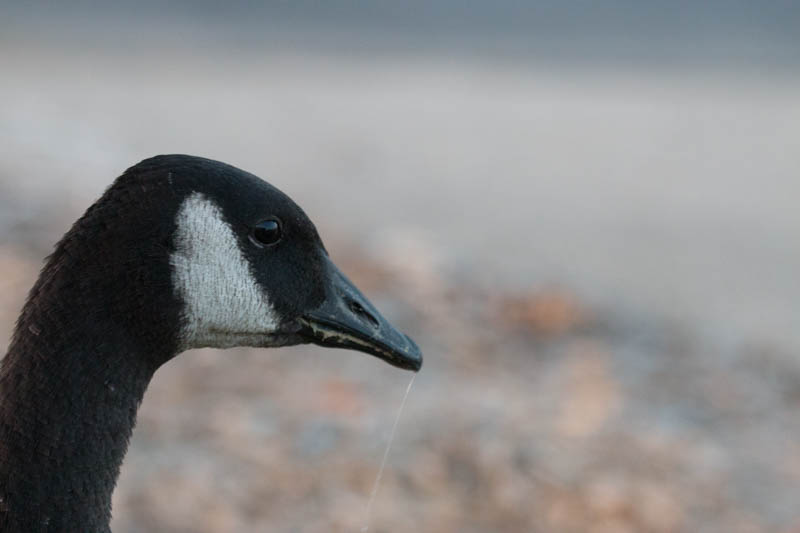goose-head: (108, 154, 425, 373)
